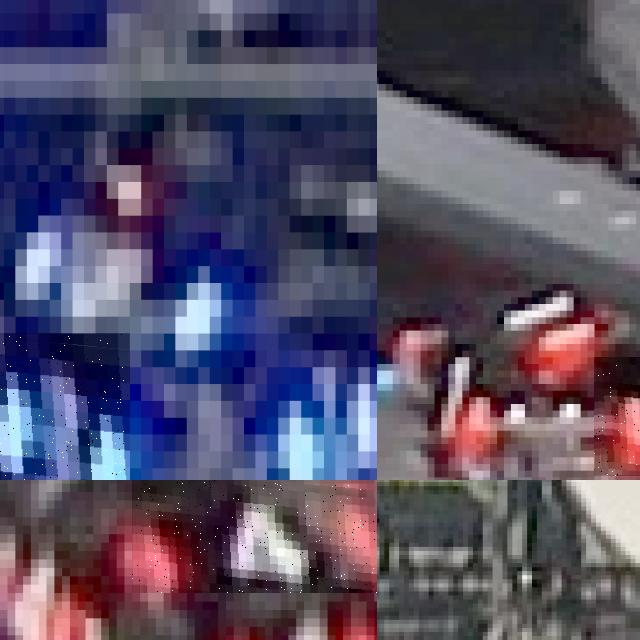B1: (0, 333, 129, 480)
R1: (476, 247, 602, 361), (400, 334, 504, 467)
R4: (132, 480, 377, 593), (0, 525, 77, 640), (218, 601, 377, 640)
